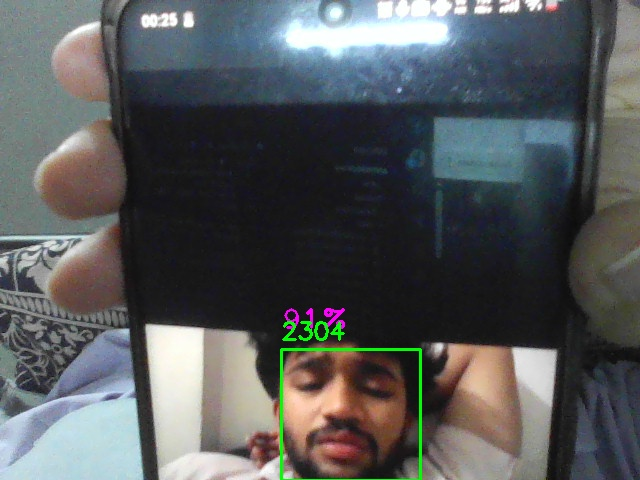fake: (281, 349, 421, 480)
